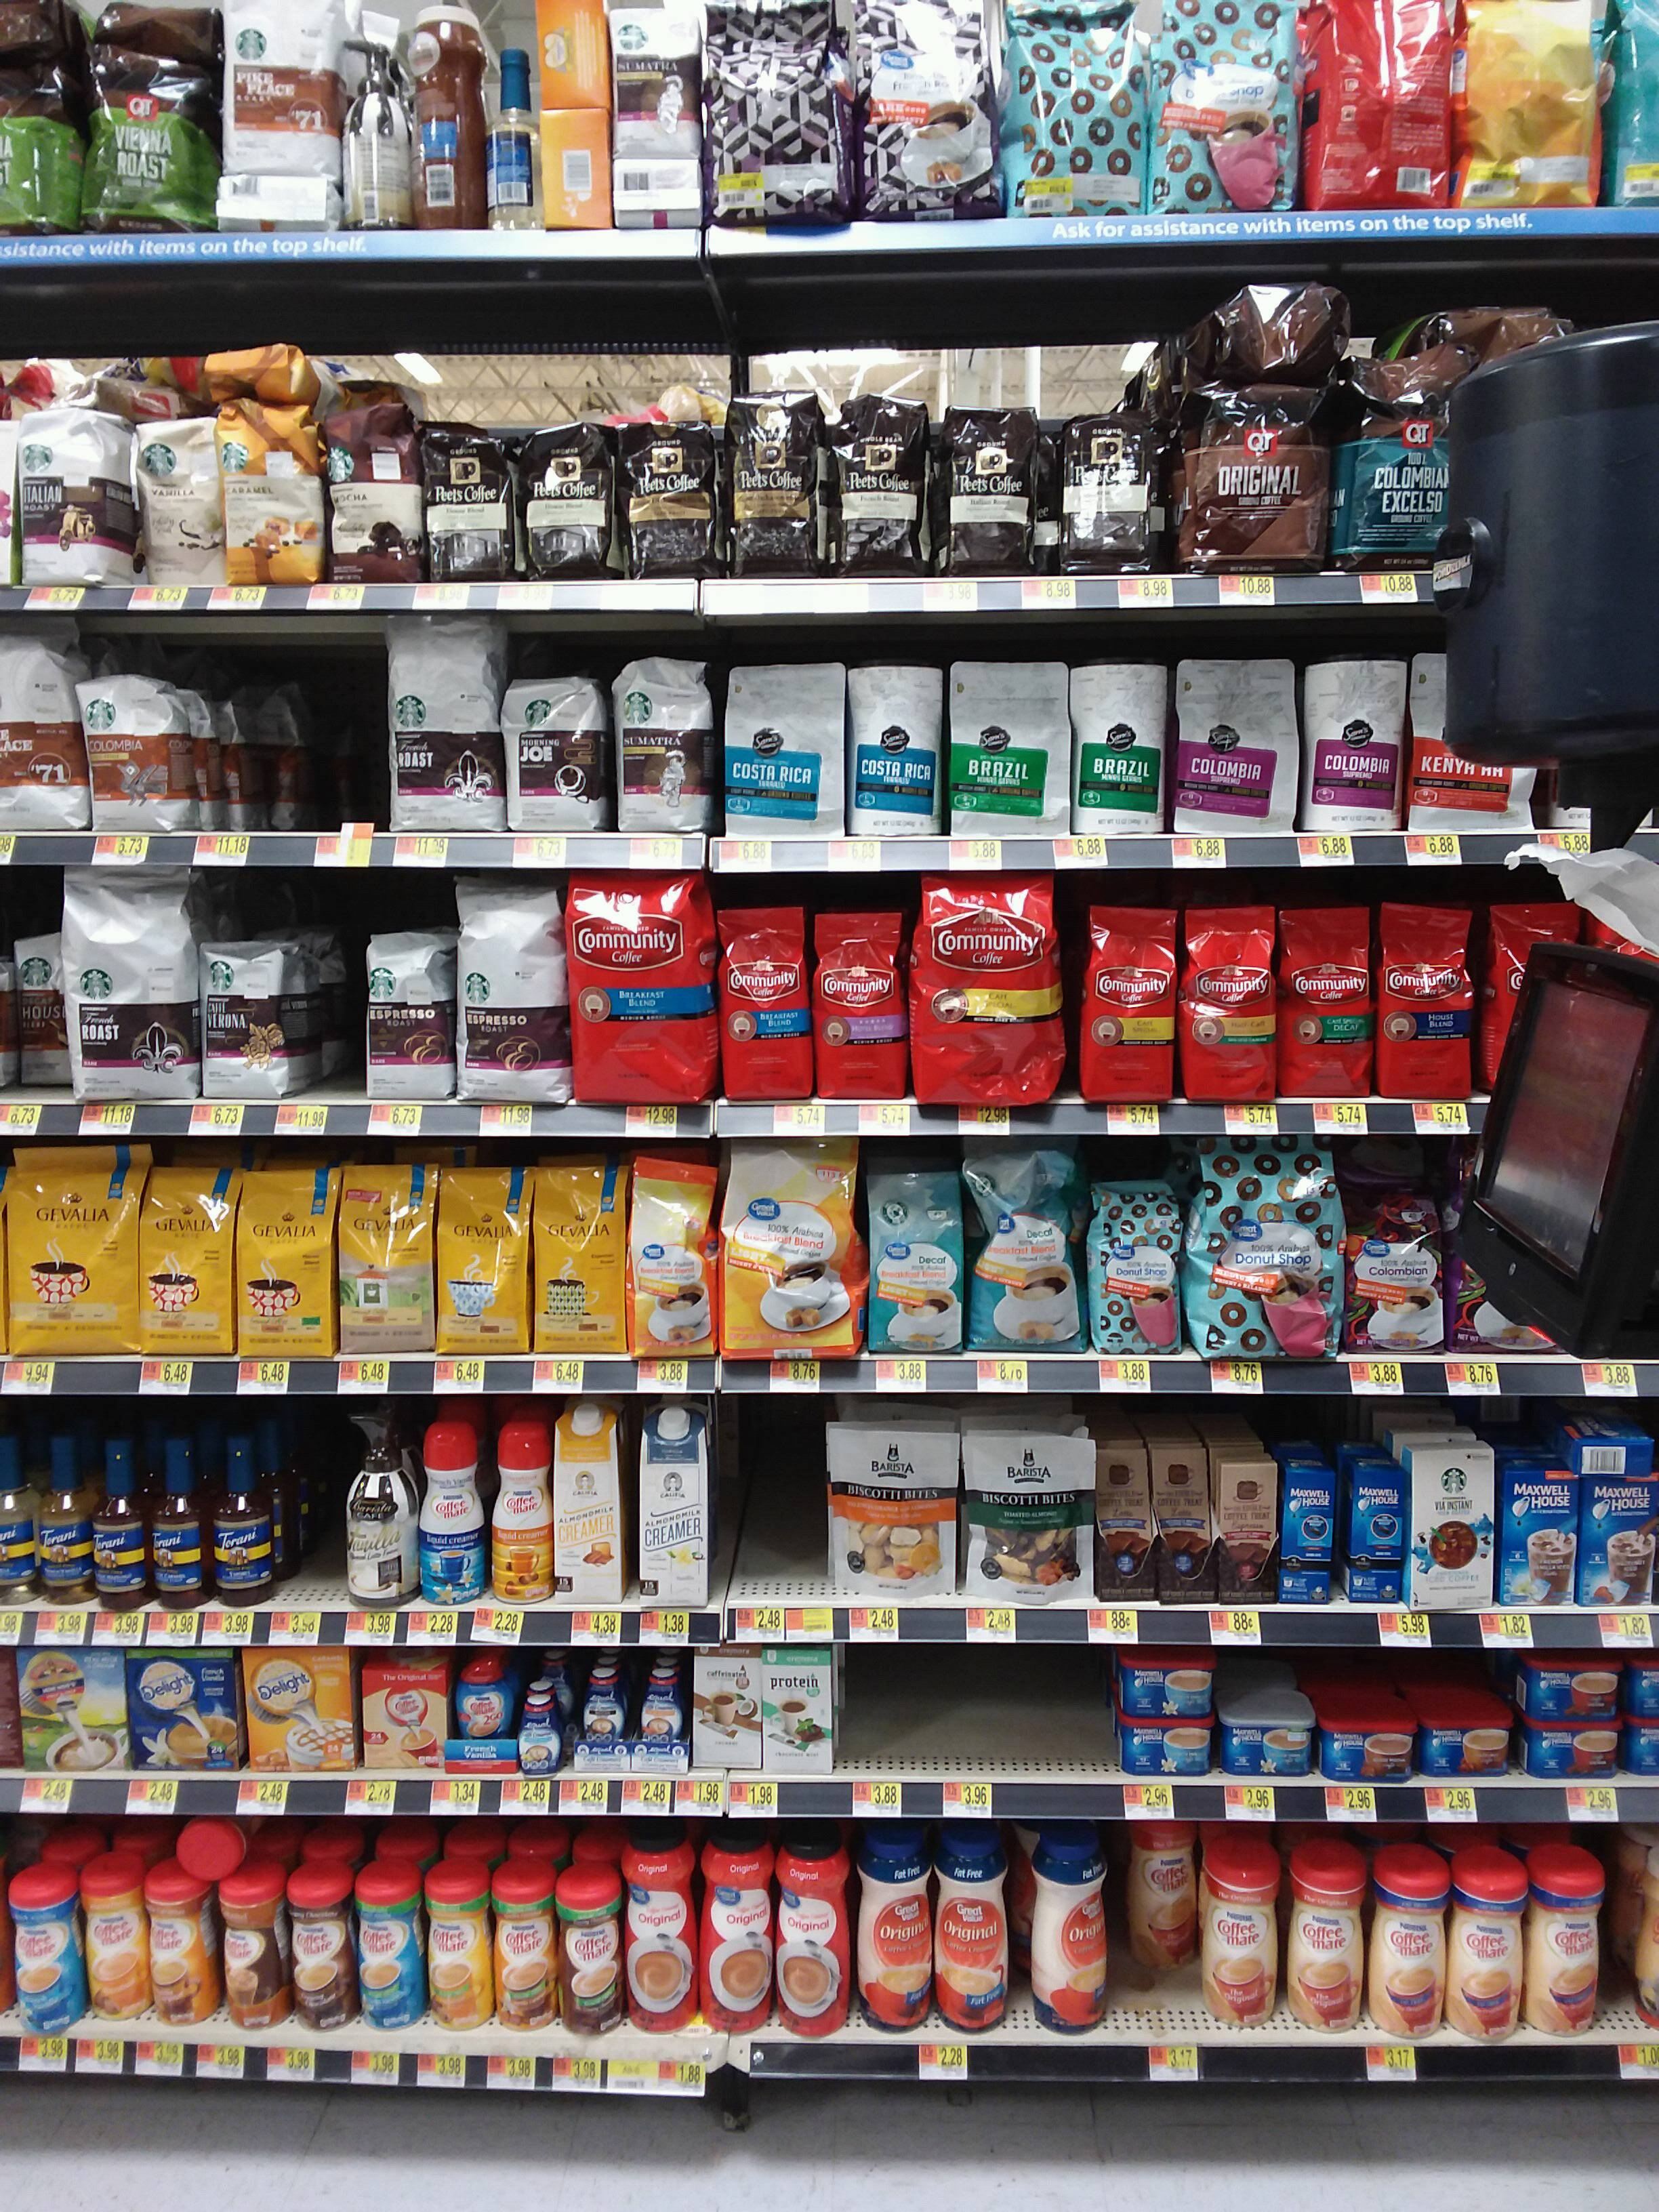product: (1190, 1125, 1354, 1355), (573, 873, 721, 1104), (58, 871, 199, 1097), (995, 7, 1147, 212), (721, 1123, 854, 1359), (1154, 7, 1304, 214), (920, 878, 1051, 1108), (856, 2, 986, 225), (1453, 3, 1596, 207), (716, 5, 849, 221), (1305, 9, 1446, 207), (964, 1421, 1103, 1620), (87, 7, 211, 228), (14, 1146, 145, 1355), (814, 1421, 962, 1602), (462, 871, 573, 1106), (1202, 390, 1330, 580), (396, 613, 504, 827), (971, 1129, 1070, 1359), (1178, 650, 1302, 833), (945, 660, 1075, 833), (1072, 904, 1176, 1103), (216, 5, 336, 178), (1018, 1825, 1114, 2040), (26, 406, 136, 592), (1274, 902, 1378, 1097), (727, 671, 847, 838), (345, 1158, 443, 1364), (1366, 1153, 1462, 1362), (1040, 401, 1152, 578), (828, 392, 929, 583), (936, 392, 1039, 580), (620, 402, 728, 580), (218, 409, 324, 585), (329, 395, 427, 587), (629, 1151, 720, 1357), (200, 944, 319, 1101), (817, 920, 915, 1109), (535, 1151, 629, 1348), (1378, 897, 1471, 1097), (931, 1825, 1018, 2036), (695, 1822, 779, 2036), (1534, 1846, 1626, 2040), (1073, 653, 1173, 833), (727, 397, 823, 582), (1183, 902, 1272, 1101), (504, 676, 613, 836), (619, 651, 711, 841), (1307, 657, 1406, 833), (249, 1172, 343, 1355), (870, 1153, 960, 1343), (82, 671, 186, 834), (1337, 409, 1439, 575), (1087, 1183, 1183, 1359), (152, 1174, 247, 1346), (427, 416, 523, 589), (1377, 1846, 1460, 2041), (554, 1407, 638, 1602), (854, 1822, 931, 2034), (335, 1414, 422, 1601), (443, 1158, 530, 1343), (728, 902, 809, 1103), (523, 416, 620, 580), (852, 660, 943, 836), (1194, 1831, 1272, 2033), (1288, 1843, 1373, 2026), (336, 37, 415, 232), (368, 934, 457, 1103), (240, 1646, 355, 1775), (784, 1825, 850, 2043), (641, 1406, 714, 1602), (416, 2, 479, 225), (5, 1864, 92, 2024), (633, 1822, 695, 2043), (1459, 1851, 1532, 2040), (17, 1646, 124, 1775), (423, 1413, 495, 1602), (132, 1649, 239, 1775), (493, 1411, 558, 1616), (610, 9, 701, 153), (214, 1435, 284, 1613), (136, 1876, 221, 2020), (1209, 286, 1354, 369), (1419, 1453, 1497, 1606), (554, 1878, 627, 2040), (1223, 1453, 1300, 1604), (143, 423, 213, 589), (483, 35, 540, 230), (289, 1874, 357, 2036), (361, 1648, 443, 1782), (1500, 1480, 1586, 1608), (1155, 1442, 1222, 1604), (366, 1871, 425, 2043), (685, 1646, 765, 1771), (493, 1862, 552, 2031), (159, 1437, 214, 1613), (96, 1439, 159, 1594), (429, 1869, 486, 2033), (223, 1876, 282, 2034), (1127, 1825, 1185, 1982), (769, 1651, 838, 1771), (1352, 1468, 1412, 1604), (37, 1447, 92, 1590), (1596, 1482, 1659, 1602), (1323, 1712, 1422, 1785), (610, 155, 702, 233), (204, 341, 317, 402), (98, 1864, 139, 2024), (545, 111, 601, 232), (1297, 1470, 1345, 1606), (540, 5, 603, 110), (213, 179, 345, 228), (457, 1663, 514, 1771), (1103, 1446, 1140, 1613), (1361, 343, 1464, 401), (1127, 1649, 1216, 1716), (1527, 1660, 1622, 1721), (1234, 1712, 1321, 1773), (636, 1679, 690, 1773), (1427, 1719, 1507, 1782), (1537, 1731, 1622, 1782), (514, 1693, 565, 1771), (1134, 1724, 1209, 1777), (584, 1681, 624, 1768)
